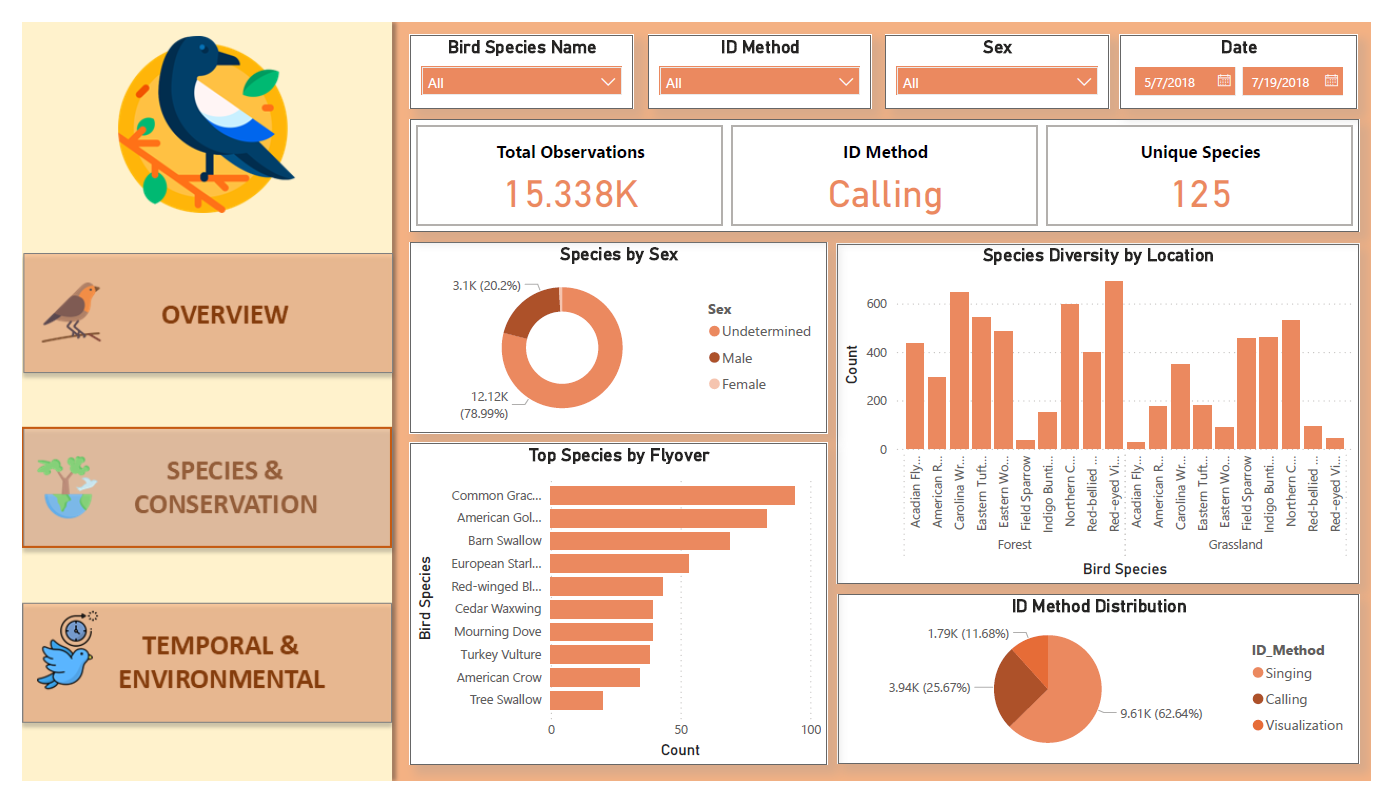

The dashboard page shown, as its layout file describes it:
{"tool":"powerbi","page":{"name":"Page 2","canvas":[1280,720],"ordinal":1},"visuals":[{"type":"actionButton","box":[0,220.8,348.7,114.6],"z":0},{"type":"actionButton","box":[0,553.8,348.7,109.8],"z":1000},{"type":"slicer","title":"Bird Species Name","fields":{"Values":["Bird_Monitoring_Clean_Merged_dataset.Common_Name"]},"box":[368,12.1,212.3,70],"z":2000},{"type":"slicer","title":"ID Method","fields":{"Values":["Bird_Monitoring_Clean_Merged_dataset.ID_Method"]},"box":[593.6,12.1,212.3,70],"z":3000},{"type":"slicer","title":"Sex","fields":{"Values":["Bird_Monitoring_Clean_Merged_dataset.Sex"]},"box":[819.2,12.1,212.3,70],"z":4000},{"type":"columnChart","title":"Species Diversity by Location","fields":{"Category":["Bird_Monitoring_Clean_Merged_dataset.Location_Type","Bird_Monitoring_Clean_Merged_dataset.Common_Name"],"Y":["CountNonNull(Bird_Monitoring_Clean_Merged_dataset.Common_Name)"]},"box":[773.3,209.9,495.8,323.3],"z":5000},{"type":"pieChart","title":"ID Method Distribution","fields":{"Category":["Bird_Monitoring_Clean_Merged_dataset.ID_Method"],"Y":["CountNonNull(Bird_Monitoring_Clean_Merged_dataset.Common_Name)"]},"box":[773.9,543.4,495.4,160.5],"z":6000},{"type":"donutChart","title":"Species by Sex","fields":{"Y":["CountNonNull(Bird_Monitoring_Clean_Merged_dataset.Common_Name)"],"Category":["Bird_Monitoring_Clean_Merged_dataset.Sex"]},"box":[368,208.7,395.7,181],"z":7000},{"type":"clusteredBarChart","title":"Top Species by Flyover","fields":{"Category":["Bird_Monitoring_Clean_Merged_dataset.Common_Name"],"Y":["CountNonNull(Bird_Monitoring_Clean_Merged_dataset.Common_Name)"]},"box":[368,399.3,395.7,305.2],"z":8000},{"type":"cardVisual","fields":{"Data":["CountNonNull(Bird_Monitoring_Clean_Merged_dataset.AOU_Code)","Min(Bird_Monitoring_Clean_Merged_dataset.ID_Method)","Count(Bird_Monitoring_Clean_Merged_dataset.Common_Name)"]},"box":[367.8,91.9,901.5,107],"z":9000},{"type":"slicer","title":"Date","fields":{"Values":["Bird_Monitoring_Clean_Merged_dataset.Date"]},"box":[1042.4,12.1,224.4,70],"z":10000}]}

Visuals, with their boxes in screenshot pixels (x1, y1, x2, y2), scaled from the page's 1280x720 canvas onto the 1391x797 screenshot:
actionButton: <box>0,244,379,371</box>
actionButton: <box>0,613,379,735</box>
"Bird Species Name" slicer: <box>400,13,631,91</box>
"ID Method" slicer: <box>645,13,876,91</box>
"Sex" slicer: <box>890,13,1121,91</box>
"Species Diversity by Location" columnChart: <box>840,232,1379,590</box>
"ID Method Distribution" pieChart: <box>841,602,1379,779</box>
"Species by Sex" donutChart: <box>400,231,830,431</box>
"Top Species by Flyover" clusteredBarChart: <box>400,442,830,780</box>
cardVisual - CountNonNull(Bird_Monitoring_Clean_Merged_dataset.AOU_Code) x Min(Bird_Monitoring_Clean_Merged_dataset.ID_Method): <box>400,102,1379,220</box>
"Date" slicer: <box>1133,13,1377,91</box>
